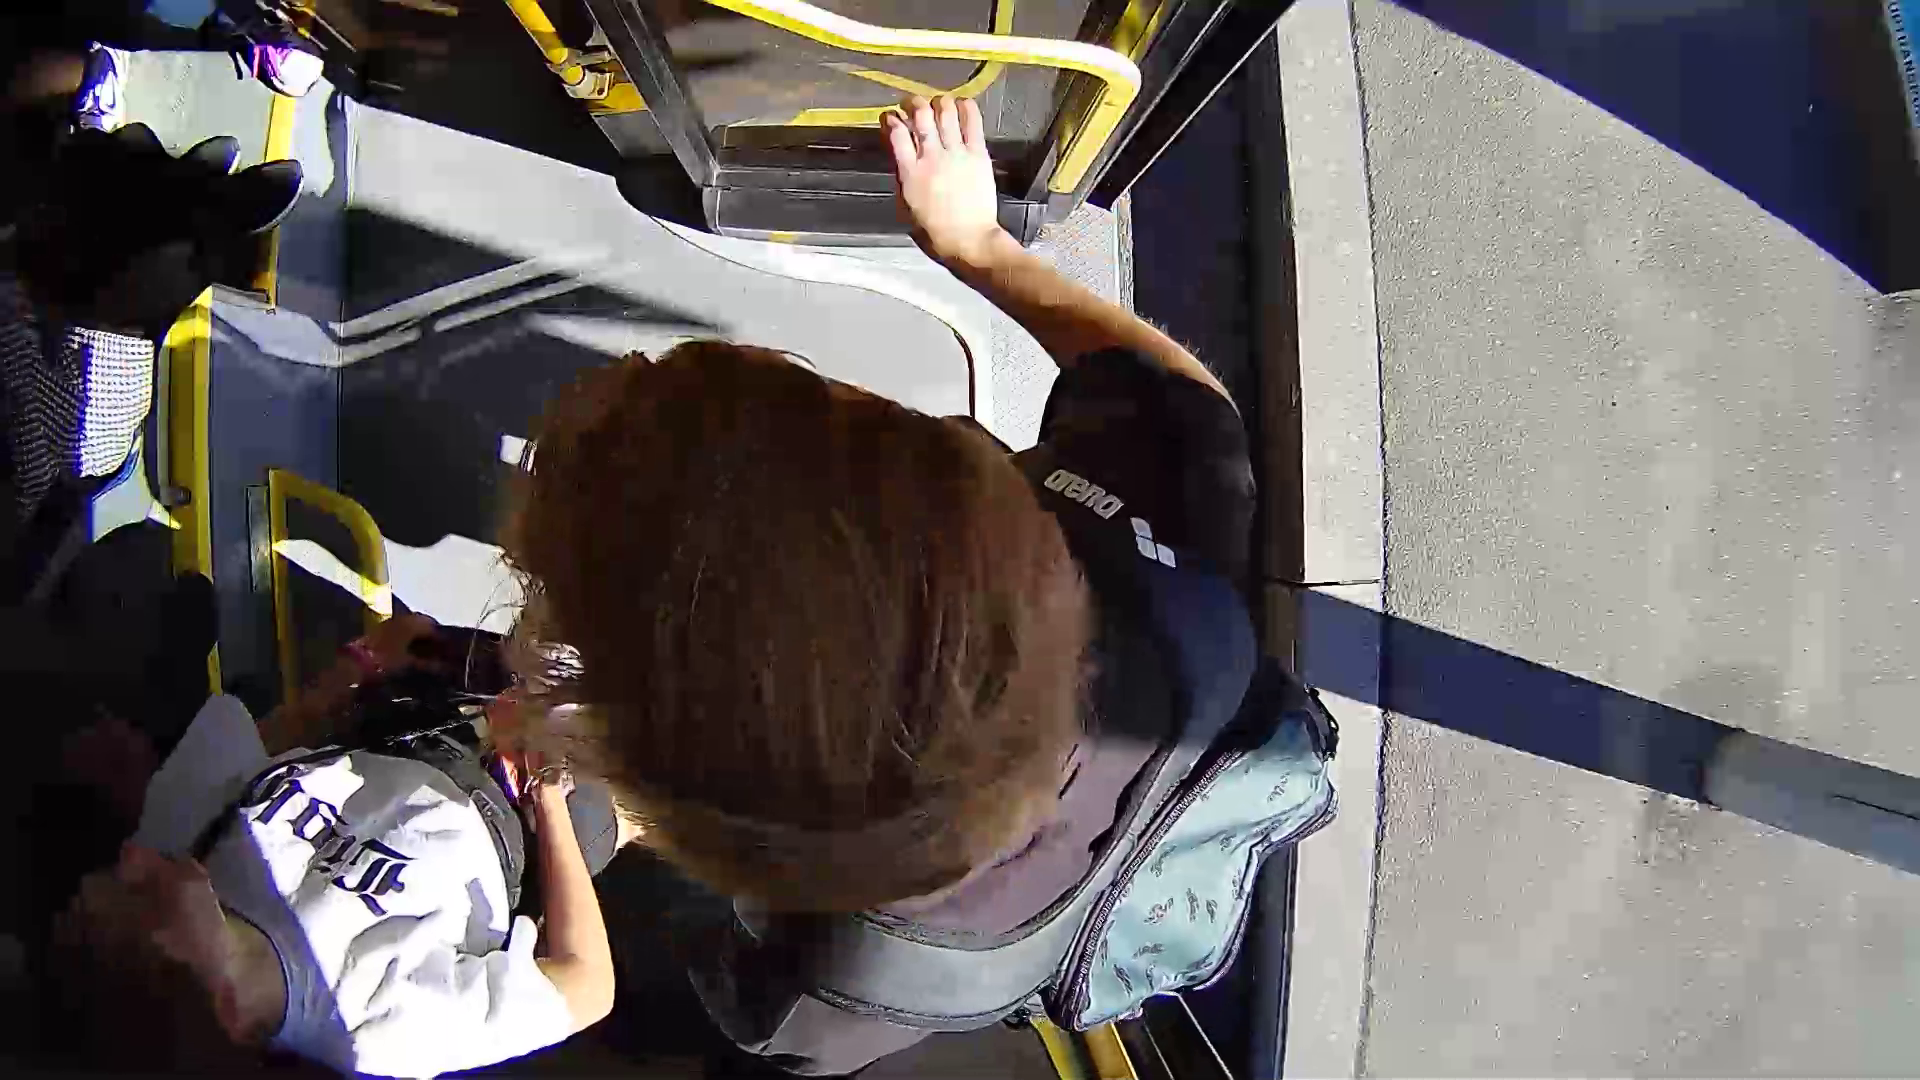person: (513, 291, 1451, 1015)
